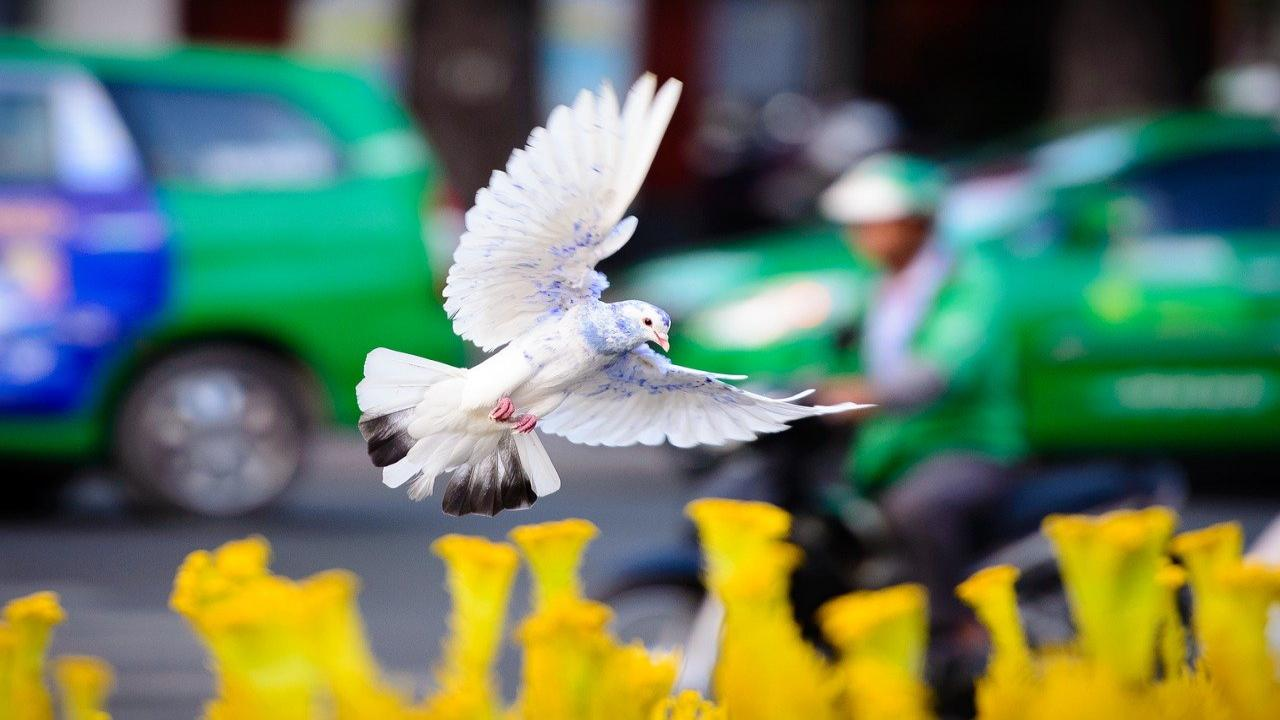Bird: (338, 62, 891, 524)
